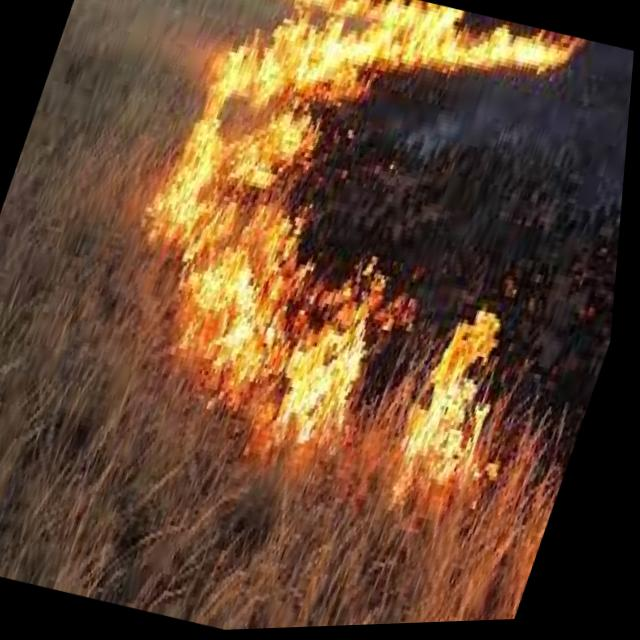Fire: (62, 0, 640, 589)
